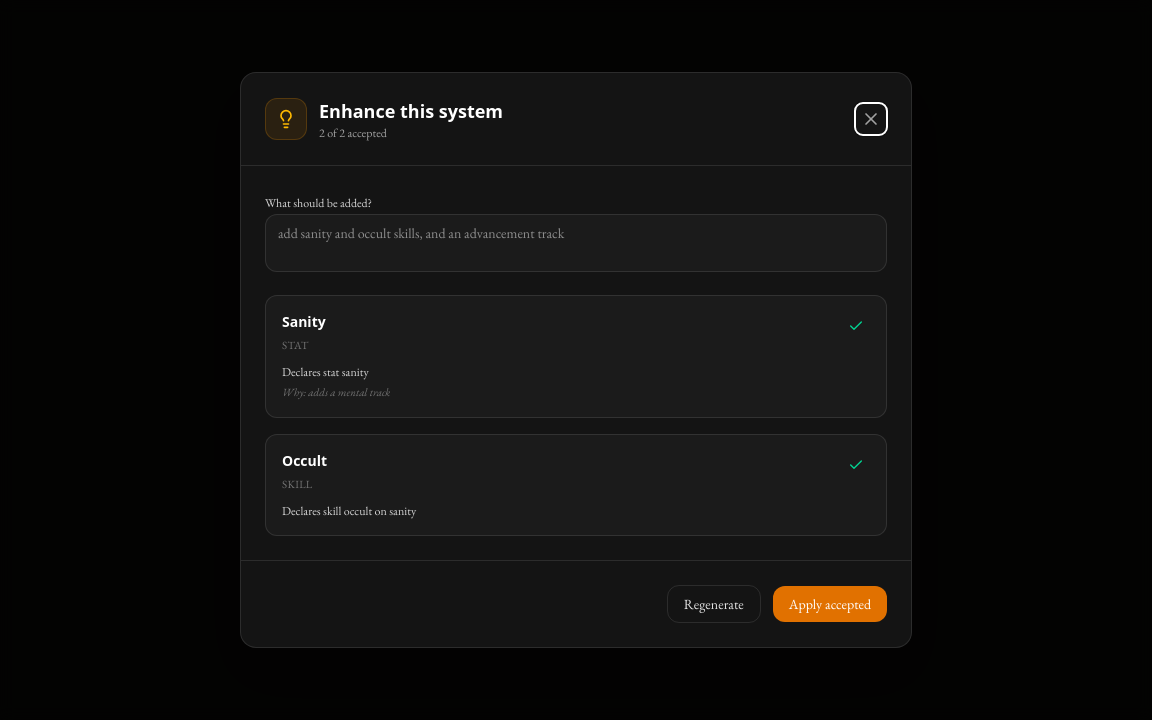
Test case: SystemEnhanceDialog › disables apply when everything is rejected
Click the button named "reject sanity": (856, 326) left=842, top=312, right=870, bottom=340
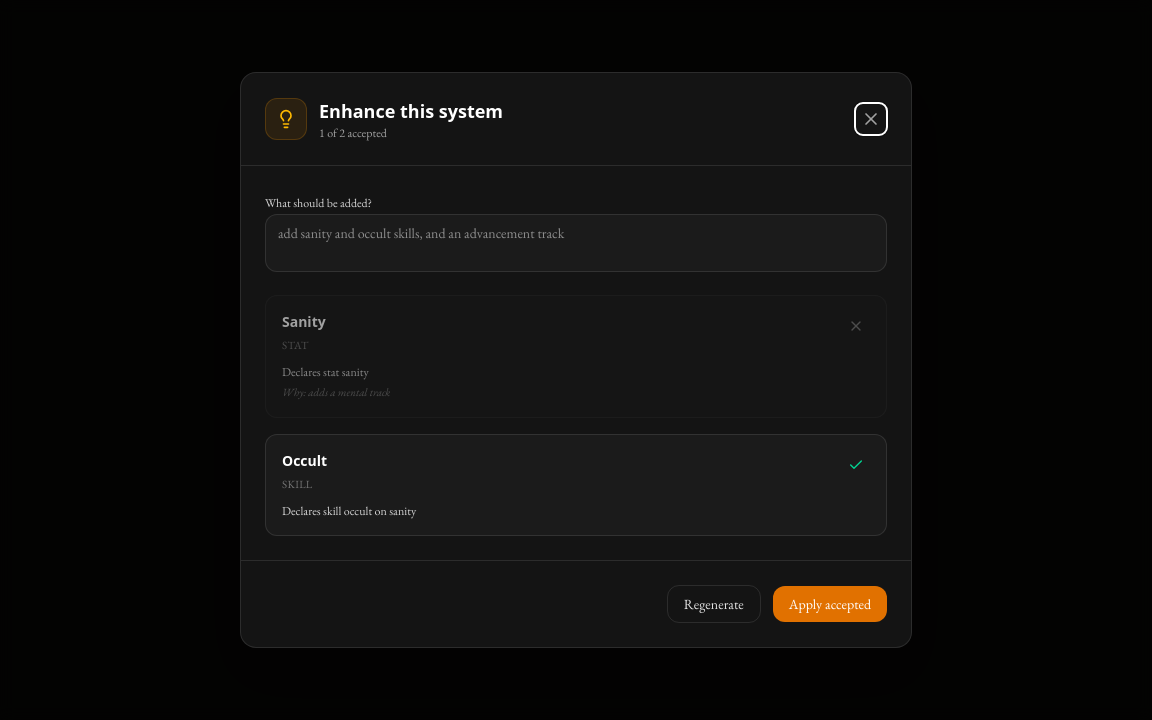
Click the button named "reject occult": (856, 465) left=842, top=451, right=870, bottom=479
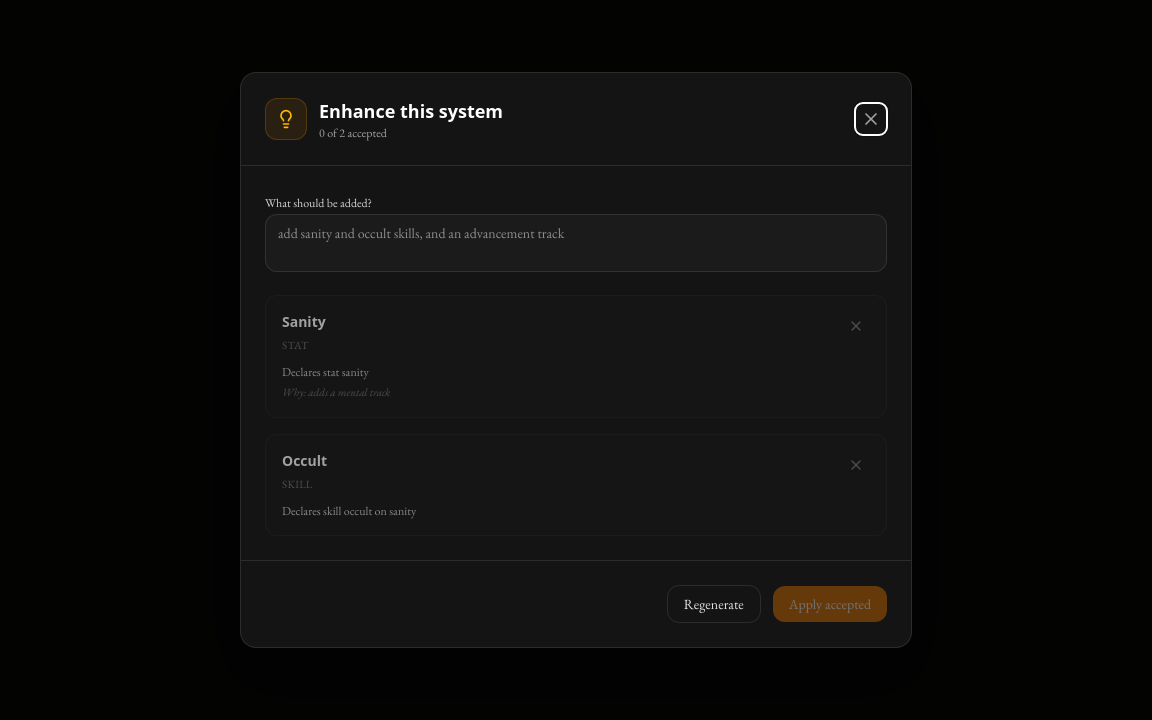
Result: the button "Apply accepted" is disabled at left=773, top=586, right=887, bottom=622
